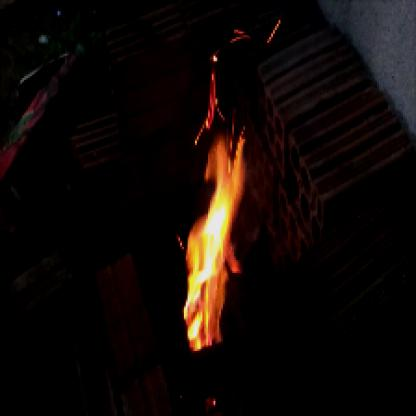Fire: (176, 106, 249, 355)
